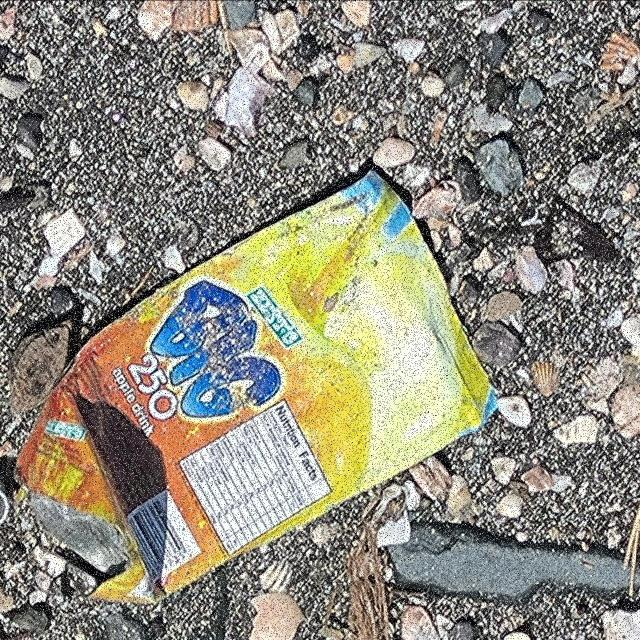plastic_waste: (12, 167, 505, 607)
